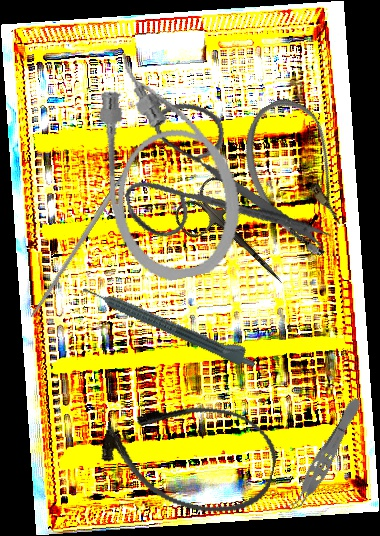Cannula: (80, 36, 254, 290), (92, 382, 286, 527), (223, 87, 376, 268)
Handpiece: (80, 275, 261, 372)
Iris Scissors: (107, 76, 336, 291), (169, 169, 305, 308)
Scalpel Handle: (28, 163, 134, 320)
Tissue Forceps: (282, 393, 367, 519)
